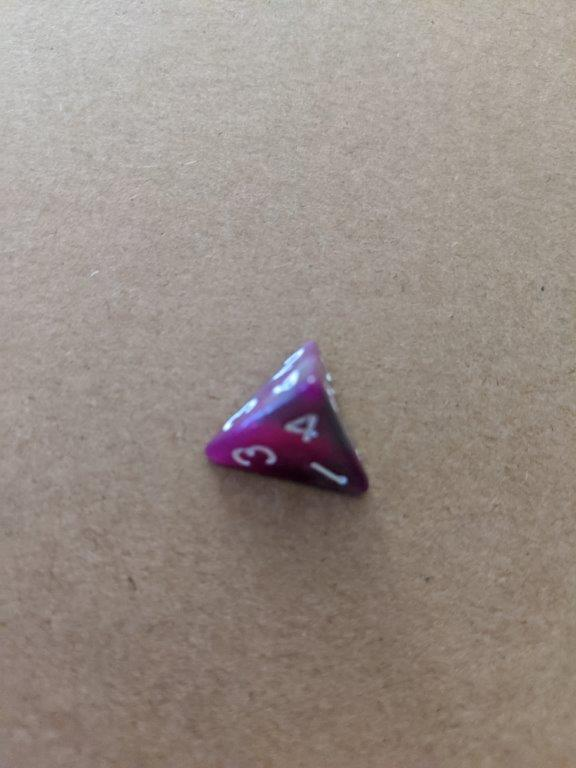d4-4: (204, 337, 374, 503)
